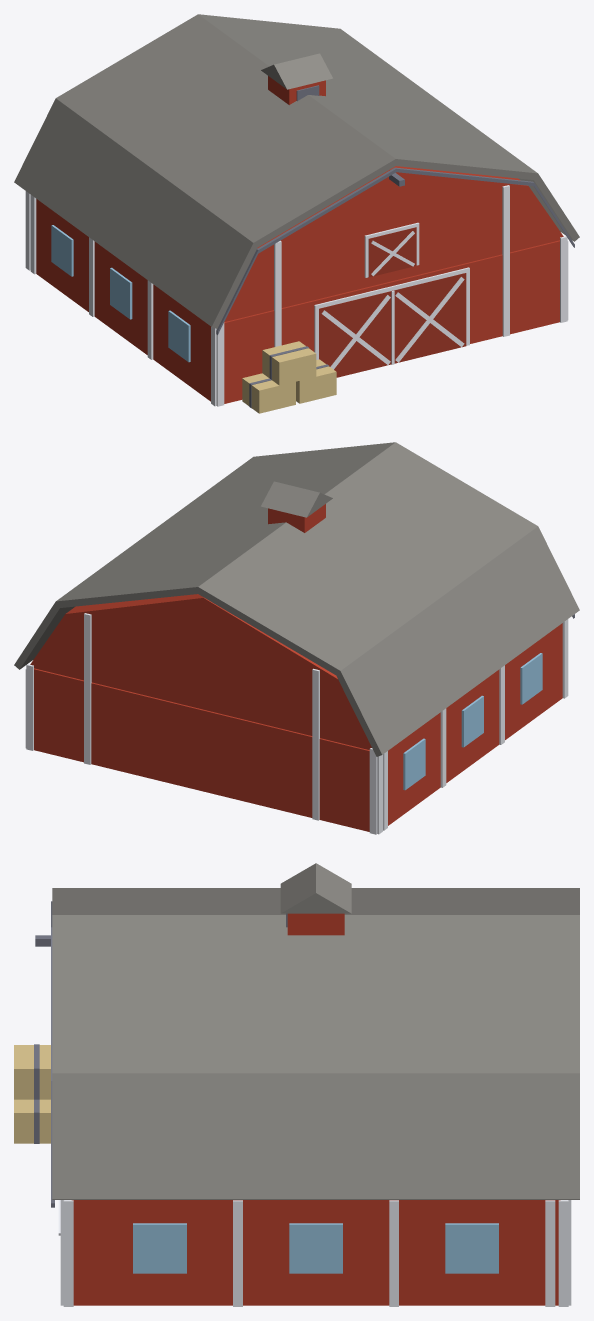
The model's file is farm-barn-2x2-tone-a.glb.
The picture shows the model from 3 angles, top to bottom: view 1: azimuth 30°, elevation 25°; view 2: azimuth 150°, elevation 25°; view 3: azimuth 270°, elevation 25°; orthographic projection. The views are drawn at different scales.
Parts seen in each view (by area): view 1: farm-barn-2x2-tone-a; view 2: farm-barn-2x2-tone-a; view 3: farm-barn-2x2-tone-a.
Boxes of the visible parts, box(x1,y1,x2,y2) form: farm-barn-2x2-tone-a: box(14, 14, 579, 413); farm-barn-2x2-tone-a: box(14, 442, 579, 834); farm-barn-2x2-tone-a: box(14, 863, 579, 1306).
Size of the model in its own units: 2 by 1.22 by 2.
1 material, 1 textured.
